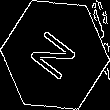N_SE: (26, 24, 84, 86)
